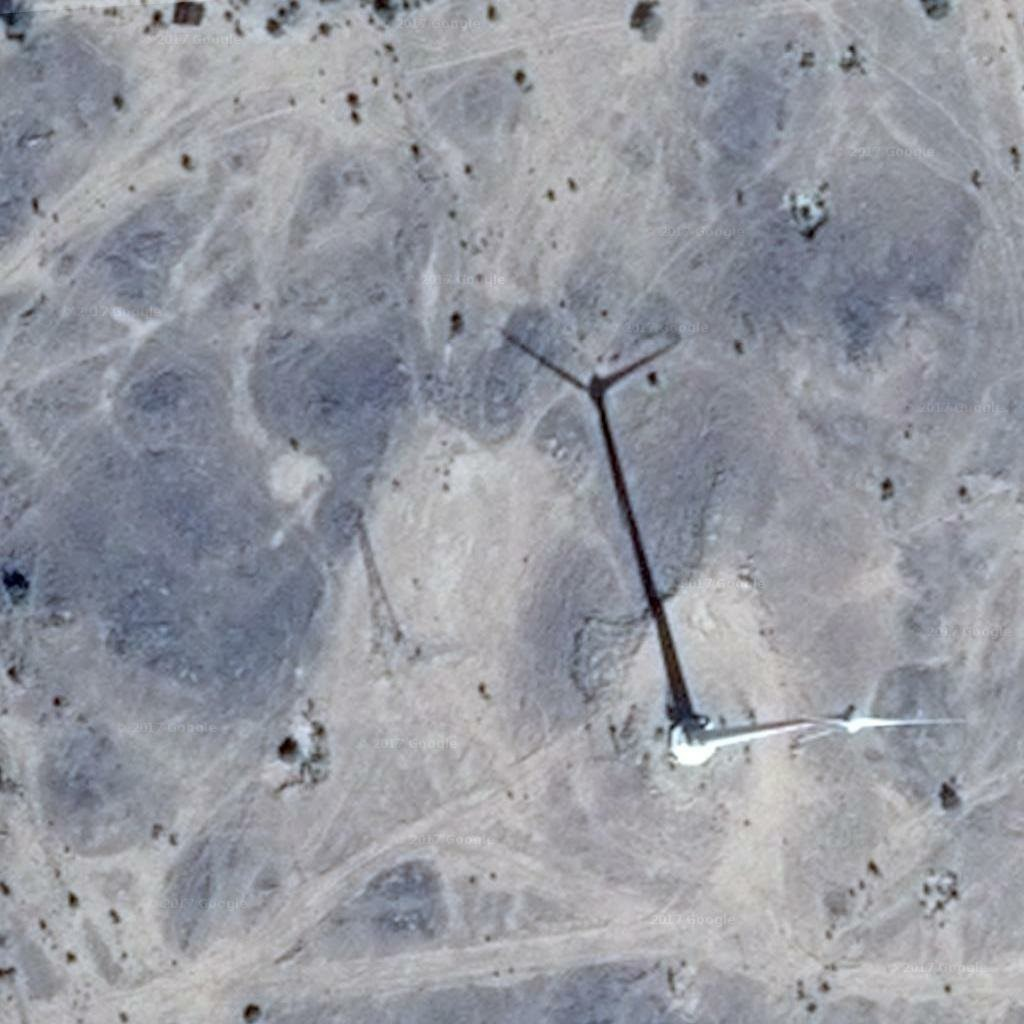Windmill: (482, 299, 714, 657)
